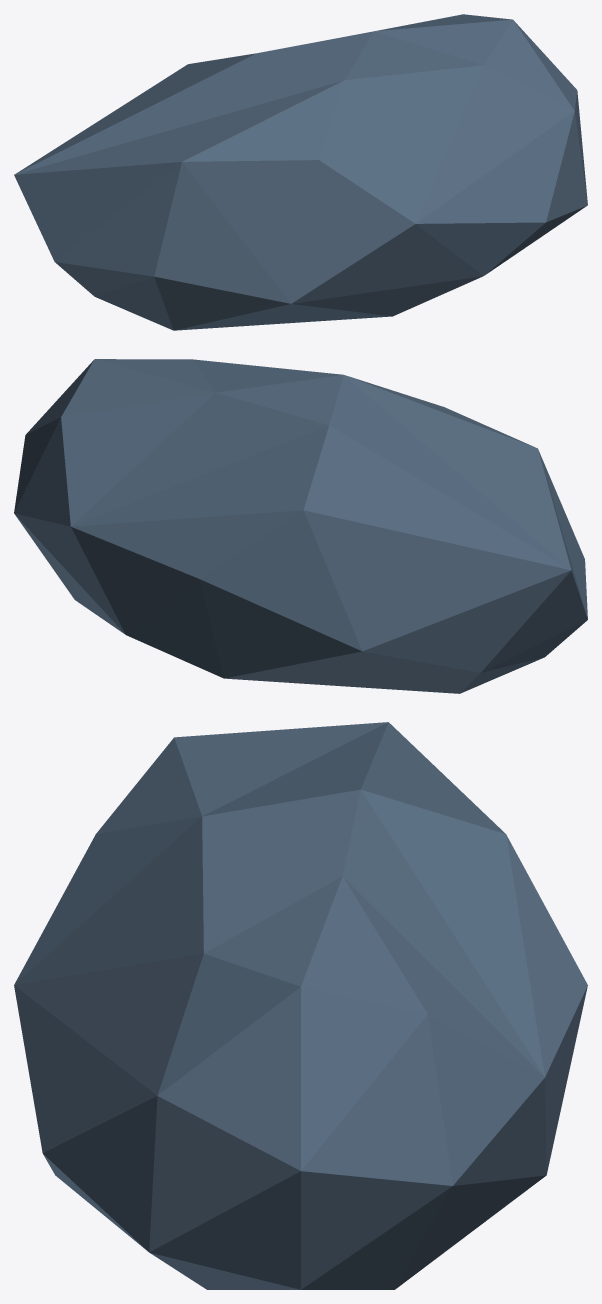
The model's file is AW_Rock06.fbx.
3 views of the same model, one above another, from view 1: azimuth 30°, elevation 25°; view 2: azimuth 150°, elevation 25°; view 3: azimuth 270°, elevation 25° (orthographic). The views are drawn at different scales.
Parts seen in each view (by area): view 1: AW_Rock06; view 2: AW_Rock06; view 3: AW_Rock06.
Boxes of the visible parts, box(x1,y1,x2,y2) form: AW_Rock06: box(14, 14, 587, 330); AW_Rock06: box(14, 359, 587, 693); AW_Rock06: box(14, 722, 587, 1289).
Size of the model in its own units: 129 by 48.34 by 76.35.
Materials: 1 (1 with a texture image).
